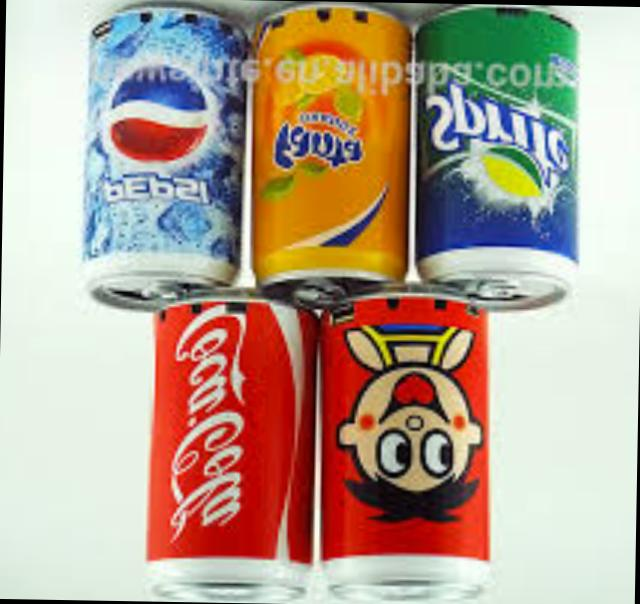metal: (319, 300, 487, 600), (414, 3, 576, 309), (145, 303, 311, 600), (84, 6, 244, 308), (252, 6, 405, 283)
